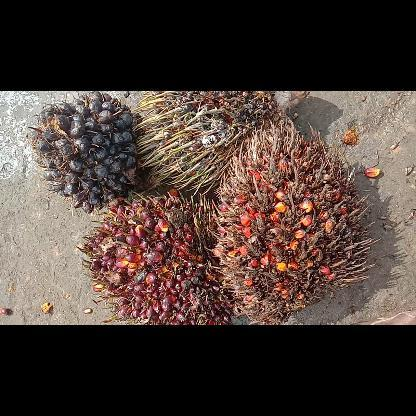TBS abnormal: (132, 91, 308, 193)
TBS masak: (78, 190, 234, 324)
TBS mentah: (32, 91, 142, 213)
Terlalu masak: (212, 119, 378, 324)
